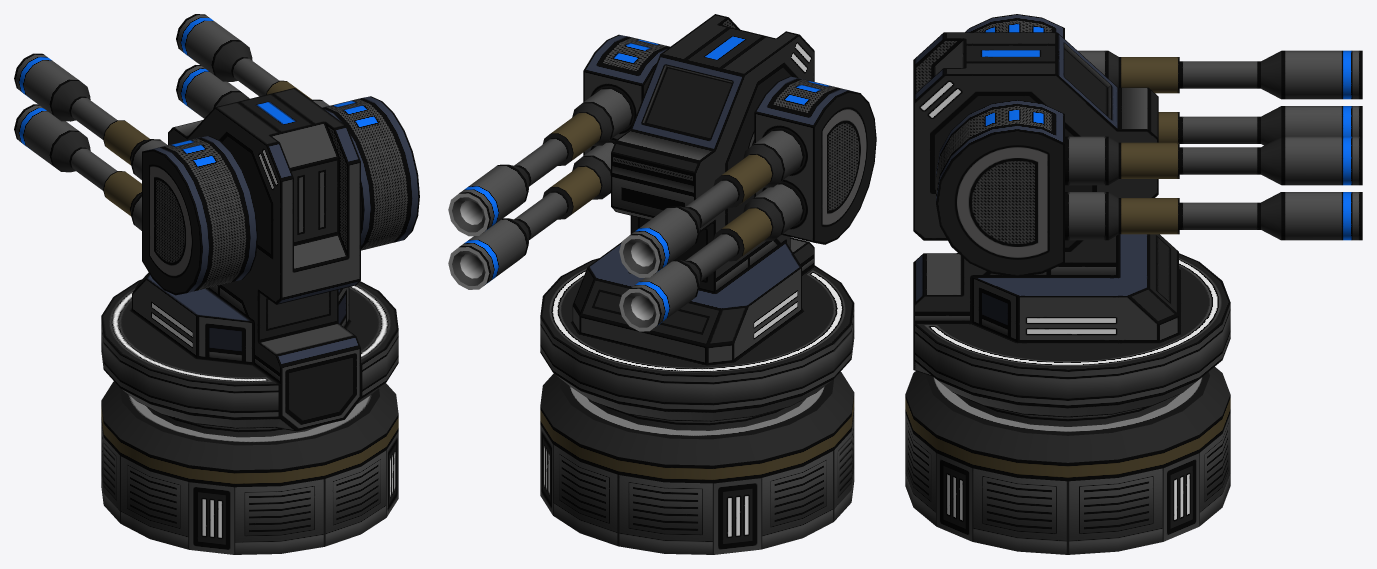
Rendered from AAGun_002.fbx.
3 views of the same model, side by side, from view 1: azimuth 30°, elevation 25°; view 2: azimuth 150°, elevation 25°; view 3: azimuth 270°, elevation 25° (orthographic). The views are drawn at different scales.
Parts seen in each view (by area): view 1: turret_y, base, turret_x, recoil1, recoil4, recoil2, recoil3; view 2: turret_y, base, turret_x, recoil1, recoil4, recoil2, recoil3; view 3: turret_y, base, turret_x, recoil1, recoil4, recoil3, recoil2.
Part boxes in pixels (x1,y1,x2,y2): turret_y: (101, 88, 398, 431); base: (101, 381, 398, 554); turret_x: (103, 80, 419, 295); recoil1: (14, 53, 117, 139); recoil4: (176, 14, 278, 96); recoil2: (14, 104, 116, 190); recoil3: (176, 65, 249, 118); turret_y: (540, 14, 854, 421); base: (540, 371, 854, 554); turret_x: (542, 34, 876, 261); recoil1: (619, 179, 739, 277); recoil4: (448, 137, 568, 236); recoil2: (619, 233, 739, 331); recoil3: (448, 191, 568, 289); turret_y: (913, 32, 1230, 417); base: (905, 367, 1230, 554); turret_x: (936, 14, 1179, 277); recoil1: (1179, 50, 1362, 99); recoil4: (1179, 136, 1362, 185); recoil3: (1179, 192, 1362, 240); recoil2: (1179, 106, 1362, 145).
Bounding box in the file's own units: 160 × 235 × 225.
